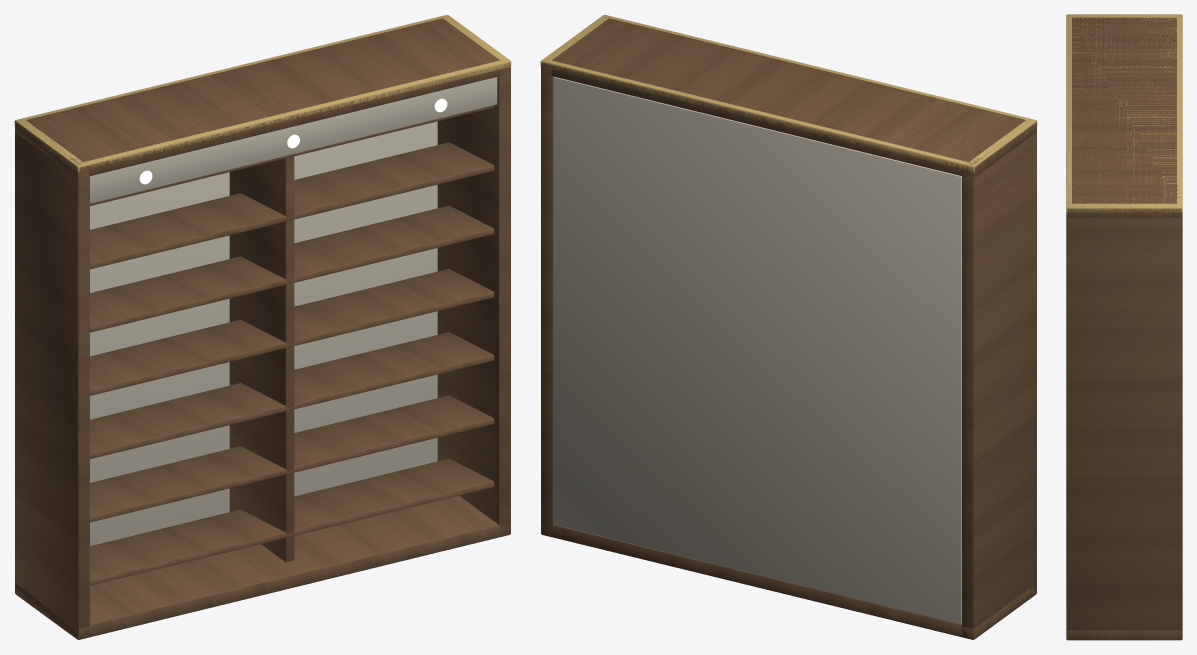
File: pf_display_shoe_display_t4.glb
3 views of the same model, side by side, from view 1: azimuth 30°, elevation 25°; view 2: azimuth 150°, elevation 25°; view 3: azimuth 270°, elevation 25° (orthographic). The views are drawn at different scales.
Visible parts, largest first — view 1: Case_Back, Case_Left, Crown_Main, Case_Right, Case_Base, Millwork_Divider_01, Angled_Shoe_Shelf_04, Angled_Shoe_Shelf_06, Angled_Shoe_Shelf_02, Angled_Shoe_Shelf_05, Angled_Shoe_Shelf_01, Angled_Shoe_Shelf_03 (+4 smaller); view 2: Case_Back, Case_Left, Crown_Main, Case_Base, Crown_Trim, Case_Right, Case_Top; view 3: Case_Right, Crown_Main, Crown_Trim, Case_Base, Case_Top.
Part boxes in pixels (bbox=[...]): Case_Back: bbox=[90, 121, 437, 545]; Case_Left: bbox=[15, 123, 89, 639]; Crown_Main: bbox=[26, 18, 499, 161]; Case_Right: bbox=[437, 63, 510, 535]; Case_Base: bbox=[15, 496, 510, 639]; Millwork_Divider_01: bbox=[229, 156, 294, 562]; Angled_Shoe_Shelf_04: bbox=[90, 269, 494, 395]; Angled_Shoe_Shelf_06: bbox=[90, 142, 494, 269]; Angled_Shoe_Shelf_02: bbox=[90, 395, 494, 522]; Angled_Shoe_Shelf_05: bbox=[90, 205, 494, 332]; Angled_Shoe_Shelf_01: bbox=[90, 458, 494, 585]; Angled_Shoe_Shelf_03: bbox=[90, 332, 494, 458]; Case_Back: bbox=[553, 76, 961, 623]; Case_Left: bbox=[962, 123, 1036, 639]; Crown_Main: bbox=[552, 18, 1025, 161]; Case_Base: bbox=[541, 523, 1036, 639]; Crown_Trim: bbox=[540, 14, 1037, 172]; Case_Right: bbox=[541, 63, 553, 535]; Case_Top: bbox=[541, 64, 1036, 177]; Case_Right: bbox=[1066, 202, 1182, 638]; Crown_Main: bbox=[1072, 17, 1176, 203]; Crown_Trim: bbox=[1066, 14, 1182, 213]; Case_Base: bbox=[1066, 630, 1182, 640]; Case_Top: bbox=[1067, 185, 1181, 217].
Size of the model in its own units: 2.2 by 2.3 by 0.56.
5 materials, 1 textured.
